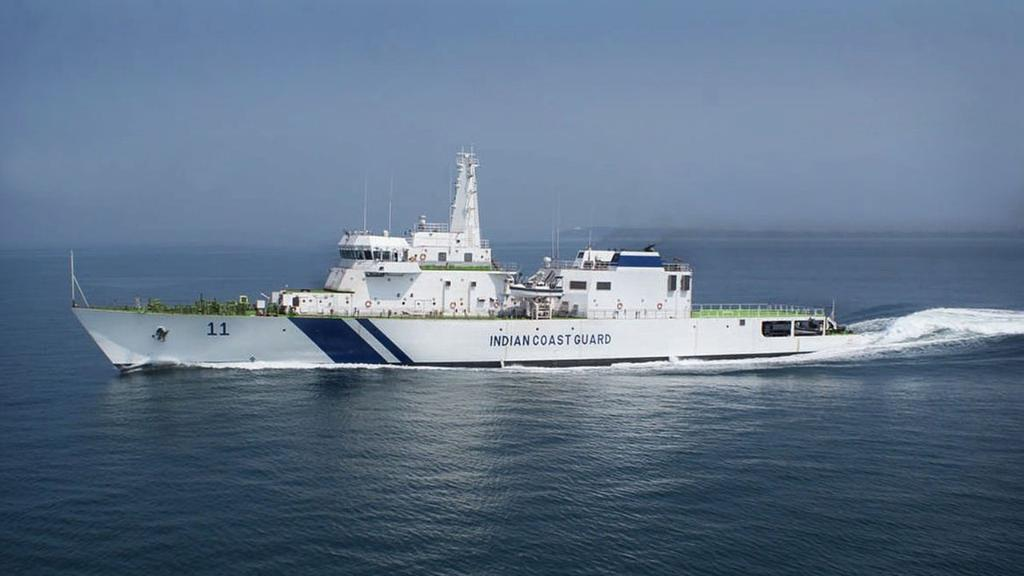Warship: (54, 134, 880, 376)
